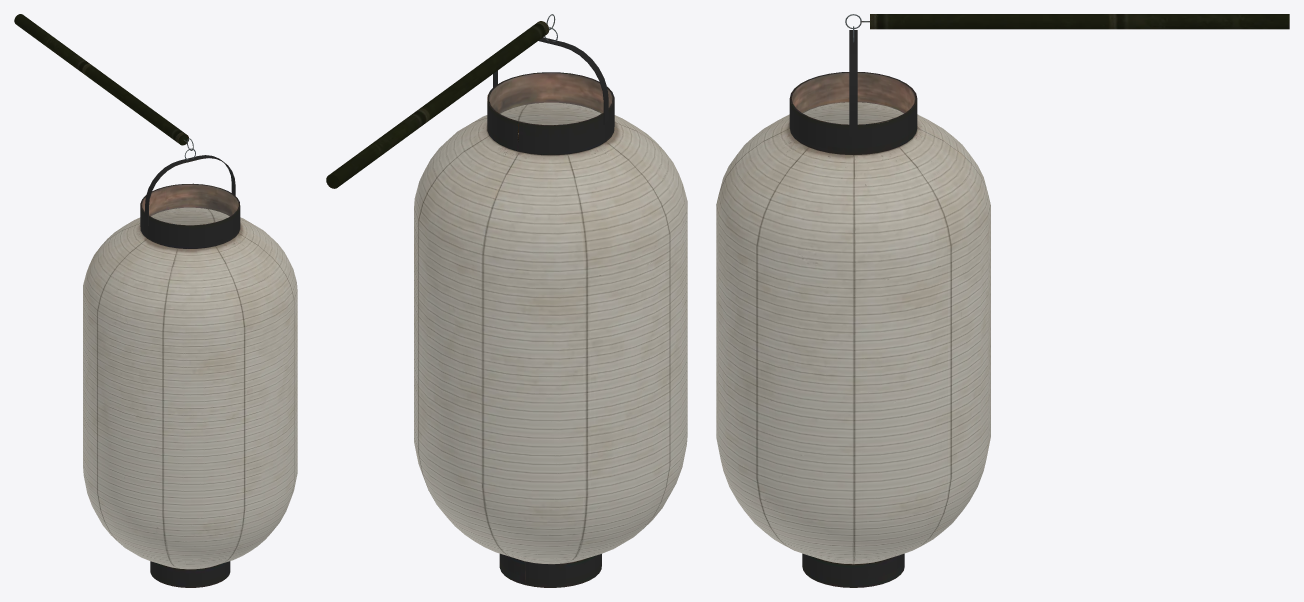
The model's file is japanese_lantern.glb.
3 renders of one model, left to right at view 1: azimuth 30°, elevation 25°; view 2: azimuth 150°, elevation 25°; view 3: azimuth 270°, elevation 25°, orthographic. The views are drawn at different scales.
Parts seen in each view (by area): view 1: Lantern_01_low_0, Lantern_05_low_9, Lantern_02_low_1; view 2: Lantern_01_low_0, Lantern_05_low_9, Lantern_02_low_1; view 3: Lantern_01_low_0, Lantern_05_low_9, Lantern_02_low_1.
Boxes of the visible parts, box(x1,y1,x2,y2) form: Lantern_01_low_0: box(83, 183, 297, 587); Lantern_05_low_9: box(14, 14, 188, 145); Lantern_02_low_1: box(145, 155, 235, 225); Lantern_01_low_0: box(414, 72, 687, 587); Lantern_05_low_9: box(326, 21, 549, 188); Lantern_02_low_1: box(493, 37, 608, 124); Lantern_01_low_0: box(716, 72, 990, 587); Lantern_05_low_9: box(870, 14, 1289, 29); Lantern_02_low_1: box(849, 30, 857, 136).
Size of the model in its own units: 0.3 by 0.6654 by 0.6264.
1 material, 1 textured.
